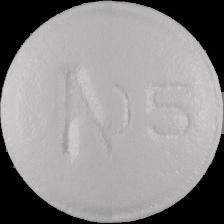43063-134: (0, 0, 224, 224)
